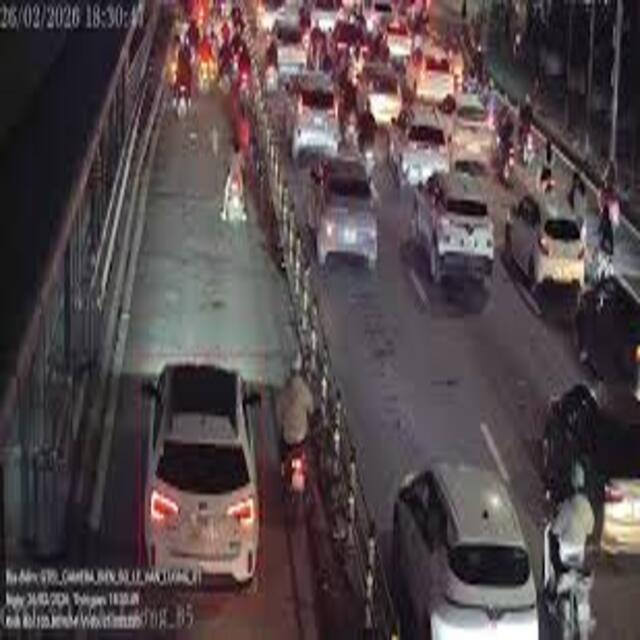car: (142, 359, 260, 590), (391, 458, 538, 640), (409, 167, 498, 285), (306, 152, 384, 274), (507, 184, 584, 294), (278, 68, 338, 161), (388, 107, 443, 178)
motorcycle: (539, 481, 605, 640), (280, 437, 314, 517)
